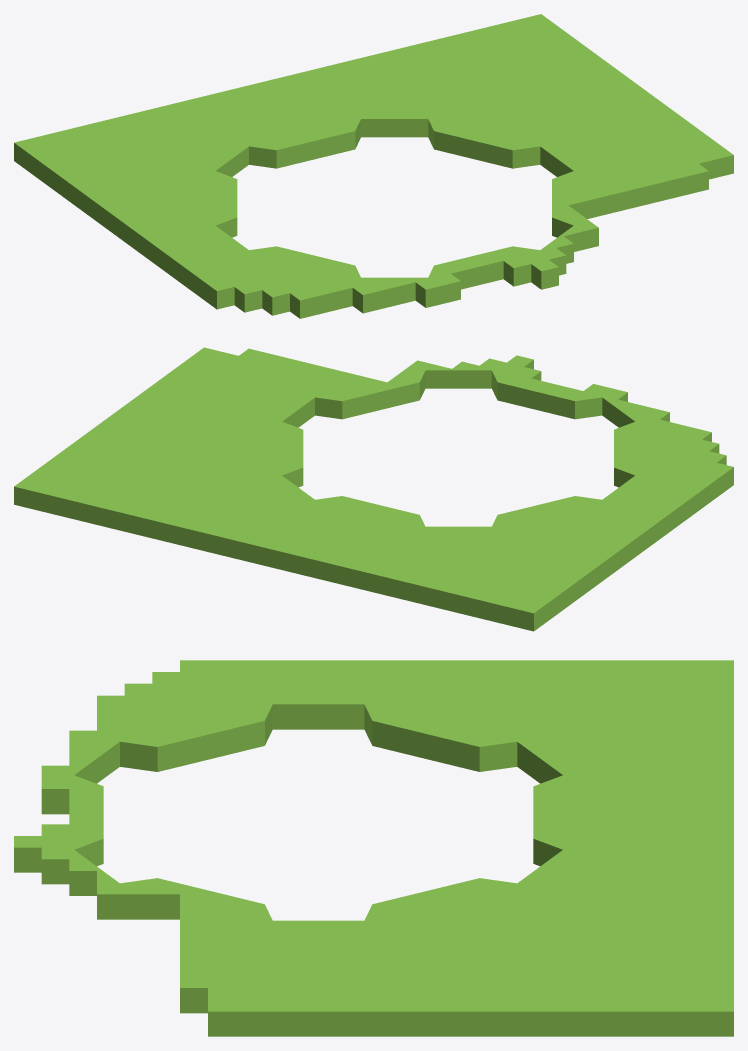
The model's file is x_zem_0_50_1_rmstrd.fbx.
3 renders of one model, top to bottom at view 1: azimuth 30°, elevation 25°; view 2: azimuth 150°, elevation 25°; view 3: azimuth 270°, elevation 25°, orthographic. The views are drawn at different scales.
Parts seen in each view (by area): view 1: x_zem_0_50_1_rmstrd1; view 2: x_zem_0_50_1_rmstrd1; view 3: x_zem_0_50_1_rmstrd1.
Boxes of the visible parts, x1=… form: x_zem_0_50_1_rmstrd1: x1=14, y1=14, x2=733, y2=318; x_zem_0_50_1_rmstrd1: x1=14, y1=347, x2=733, y2=631; x_zem_0_50_1_rmstrd1: x1=14, y1=660, x2=733, y2=1036.
Bounding box in the file's own units: 30 × 1 × 26.
